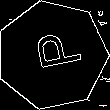P_W: (23, 32, 81, 79)
